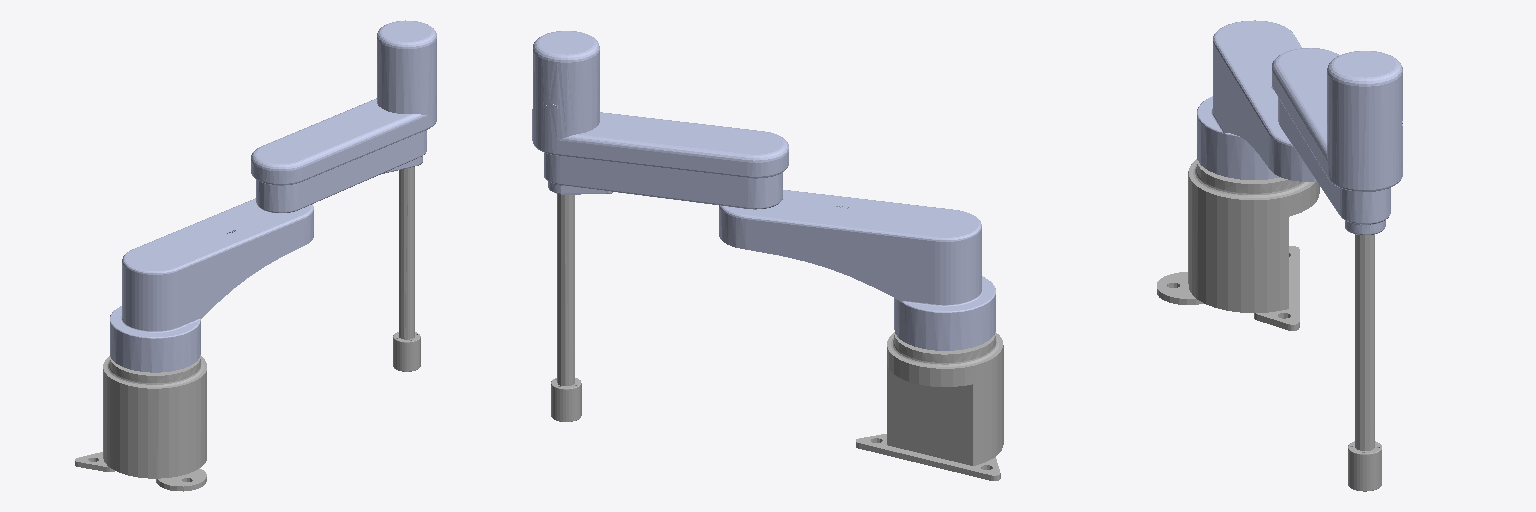
URDF robot description (scara_test):
<?xml version="1.0" encoding="utf-8"?>
<!-- This URDF was automatically created by SolidWorks to URDF Exporter! Originally created by [author] ([email redacted]) 
     Commit Version: 1.6.0-4-g7f85cfe  Build Version: 1.6.7995.38578
     For more information, please see http://wiki.ros.org/sw_urdf_exporter -->
<robot
  name="scara_test">
  <link
    name="base_link">
    <inertial>
      <origin
        xyz="3.46944695195361E-18 -0.0104956270413381 0.0973340464322707"
        rpy="0 0 0" />
      <mass
        value="5.00790675574369" />
      <inertia
        ixx="0.0272816434635413"
        ixy="4.90144994594288E-20"
        ixz="-1.5882228751129E-18"
        iyy="0.0303036741473048"
        iyz="-0.00132401962357745"
        izz="0.0208602748724499" />
    </inertial>
    <visual>
      <origin
        xyz="0 0 0"
        rpy="0 0 0" />
      <geometry>
        <mesh
          filename="package://scara_test/meshes/base_link.STL" />
      </geometry>
      <material
        name="">
        <color
          rgba="0.749019607843137 0.749019607843137 0.749019607843137 1" />
      </material>
    </visual>
    <collision>
      <origin
        xyz="0 0 0"
        rpy="0 0 0" />
      <geometry>
        <mesh
          filename="package://scara_test/meshes/base_link.STL" />
      </geometry>
    </collision>
  </link>
  <link
    name="Link1">
    <inertial>
      <origin
        xyz="0.0913471133703933 0.0236449760738179 0.120844742749371"
        rpy="0 0 0" />
      <mass
        value="5.90223905250446" />
      <inertia
        ixx="0.0303808340953451"
        ixy="-0.0179205775566625"
        ixz="-0.0211780133464455"
        iyy="0.0949747728617844"
        iyz="-0.00548209574957605"
        izz="0.0889361989304493" />
    </inertial>
    <visual>
      <origin
        xyz="0 0 0"
        rpy="0 0 0" />
      <geometry>
        <mesh
          filename="package://scara_test/meshes/Link1.STL" />
      </geometry>
      <material
        name="">
        <color
          rgba="0.792156862745098 0.819607843137255 0.933333333333333 1" />
      </material>
    </visual>
    <collision>
      <origin
        xyz="0 0 0"
        rpy="0 0 0" />
      <geometry>
        <mesh
          filename="package://scara_test/meshes/Link1.STL" />
      </geometry>
    </collision>
  </link>
  <joint
    name="q1"
    type="revolute">
    <origin
      xyz="0 0 0.2"
      rpy="0 0 0" />
    <parent
      link="base_link" />
    <child
      link="Link1" />
    <axis
      xyz="0 0 -1" />
    <limit
      lower="0"
      upper="0"
      effort="0"
      velocity="0" />
  </joint>
  <link
    name="link2">
    <inertial>
      <origin
        xyz="0.190693649121172 0.0493601119579315 0.0831385368920144"
        rpy="0 0 0" />
      <mass
        value="4.95296301942513" />
      <inertia
        ixx="0.0268014139008212"
        ixy="-0.0172718085999452"
        ixz="-0.0178751378079889"
        iyy="0.0890610633282892"
        iyz="-0.00462672982876542"
        izz="0.0786063188611525" />
    </inertial>
    <visual>
      <origin
        xyz="0 0 0"
        rpy="0 0 0" />
      <geometry>
        <mesh
          filename="package://scara_test/meshes/link2.STL" />
      </geometry>
      <material
        name="">
        <color
          rgba="0.792156862745098 0.819607843137255 0.933333333333333 1" />
      </material>
    </visual>
    <collision>
      <origin
        xyz="0 0 0"
        rpy="0 0 0" />
      <geometry>
        <mesh
          filename="package://scara_test/meshes/link2.STL" />
      </geometry>
    </collision>
  </link>
  <joint
    name="q2"
    type="continuous">
    <origin
      xyz="0.309790572956421 0.0801860393543208 0.2015"
      rpy="0 0 0" />
    <parent
      link="Link1" />
    <child
      link="link2" />
    <axis
      xyz="0 0 1" />
  </joint>
  <link
    name="shaft">
    <inertial>
      <origin
        xyz="0 -2.77555756156289E-17 0.182374388704694"
        rpy="0 0 0" />
      <mass
        value="0.298826193233904" />
      <inertia
        ixx="0.00471400120249905"
        ixy="8.17269954838877E-22"
        ixz="3.42266237186383E-21"
        iyy="0.00471400120249905"
        iyz="-8.74894893158929E-21"
        izz="5.89540376300443E-05" />
    </inertial>
    <visual>
      <origin
        xyz="0 0 0"
        rpy="0 0 0" />
      <geometry>
        <mesh
          filename="package://scara_test/meshes/shaft.STL" />
      </geometry>
      <material
        name="">
        <color
          rgba="0.749019607843137 0.749019607843137 0.749019607843137 1" />
      </material>
    </visual>
    <collision>
      <origin
        xyz="0 0 0"
        rpy="0 0 0" />
      <geometry>
        <mesh
          filename="package://scara_test/meshes/shaft.STL" />
      </geometry>
    </collision>
  </link>
  <joint
    name="end"
    type="continuous">
    <origin
      xyz="0.309790572956419 0.0801860393543241 -0.43"
      rpy="0 0 0" />
    <parent
      link="link2" />
    <child
      link="shaft" />
    <axis
      xyz="0 0 1" />
  </joint>
</robot>

--- Facts derived from the render (not from the file) ---
3 views of the same robot in one strip: view 1: azimuth 30°, elevation 25°; view 2: azimuth 150°, elevation 25°; view 3: azimuth 270°, elevation 25° (orthographic).
Model scara_test with 4 links and 3 joints (1 revolute, 2 continuous), rooted at base_link, posed every joint at zero.
Visible links, largest first — view 1: Link1, link2, base_link, shaft; view 2: link2, Link1, base_link, shaft; view 3: link2, base_link, Link1, shaft.
Boxes of the visible links, x1,y1,x2,y2 form: Link1: (110, 198, 313, 372); link2: (251, 20, 436, 212); base_link: (75, 355, 206, 491); shaft: (393, 167, 420, 371); link2: (532, 31, 788, 209); Link1: (719, 190, 995, 350); base_link: (856, 332, 1003, 480); shaft: (551, 194, 581, 421); link2: (1272, 48, 1402, 234); base_link: (1157, 159, 1319, 330); Link1: (1197, 20, 1316, 181); shaft: (1348, 234, 1381, 491).
Size in the robot's own frame: 0.8092 by 0.3567 by 0.67 metres.
4 mesh visuals loaded from 4 distinct referenced files (4 binary STL).